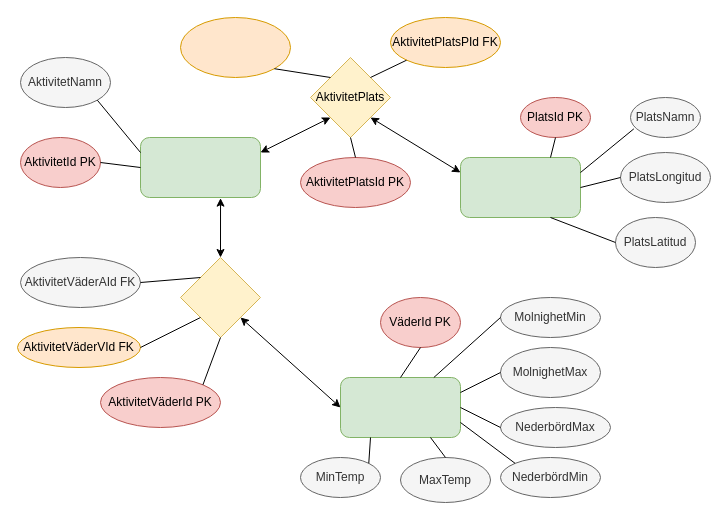
Image size: 728x520. Some labels were removed from this diagram. Each missing label, with the centre of its shape:
"Aktivitet" belongs at (200,167).
"AktivitetPlatsAId FK" belongs at (235,47).
"Lämpligt" belongs at (220,297).
"Plats" belongs at (520,187).
"Väder" belongs at (400,407).
